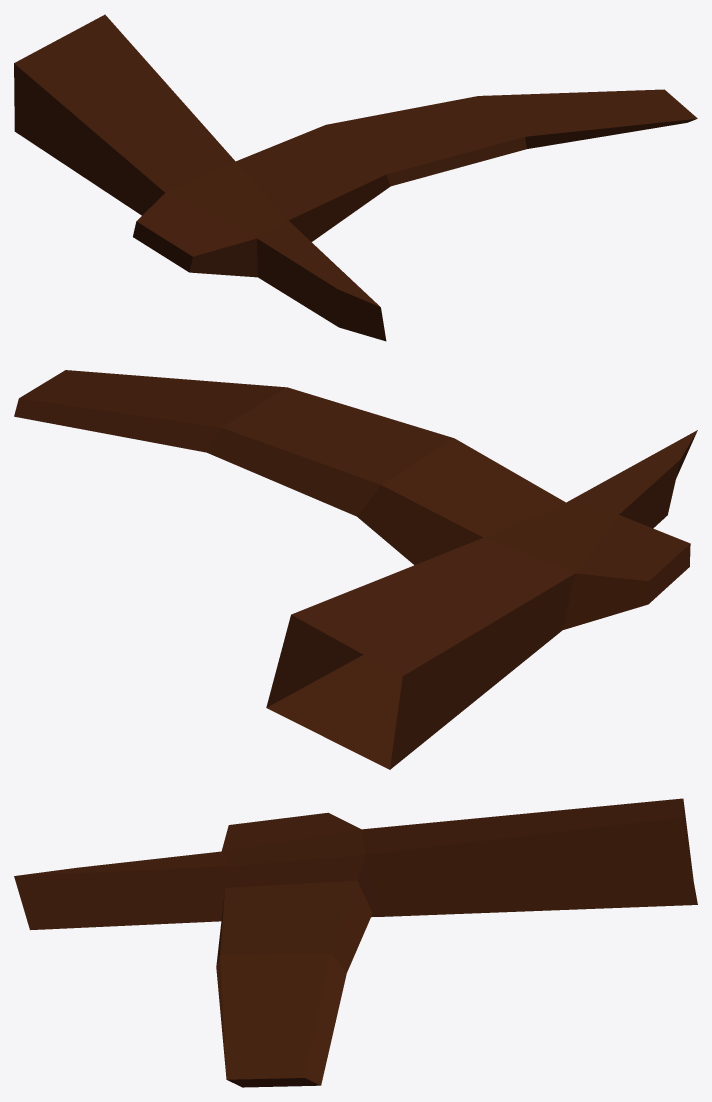
The model's file is 3stage_tree_foothold.FBX.
The picture shows the model from 3 angles, top to bottom: view 1: azimuth 30°, elevation 25°; view 2: azimuth 150°, elevation 25°; view 3: azimuth 270°, elevation 25°; orthographic projection. The views are drawn at different scales.
Visible parts, largest first — view 1: fuck_tree_unity_sibal; view 2: fuck_tree_unity_sibal; view 3: fuck_tree_unity_sibal.
Part boxes in pixels (bbox=[...]): fuck_tree_unity_sibal: bbox=[14, 14, 697, 341]; fuck_tree_unity_sibal: bbox=[14, 370, 697, 769]; fuck_tree_unity_sibal: bbox=[14, 798, 697, 1087].
Bounding box in the file's own units: 253 × 50.43 × 261.
